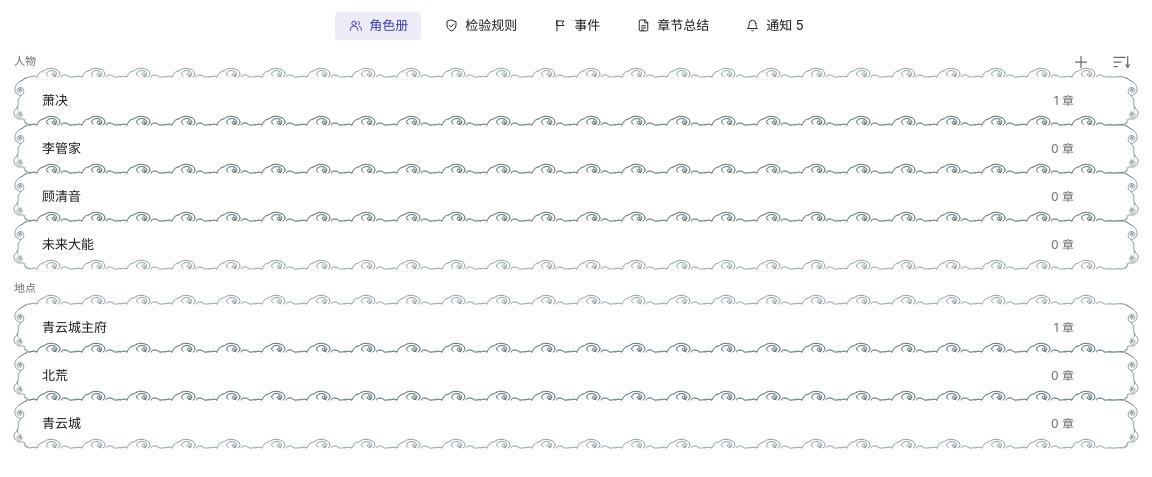
Test case: 线 2 再续：措辞的源只有一个 › 名单那一半：后端的句子原样上屏，一个字都不翻
The image size is (1152, 477).
What coordinates should you click on to do the following:
click the button "事件"
I would click on:
 (577, 26)
Its box is [540,12,613,40].
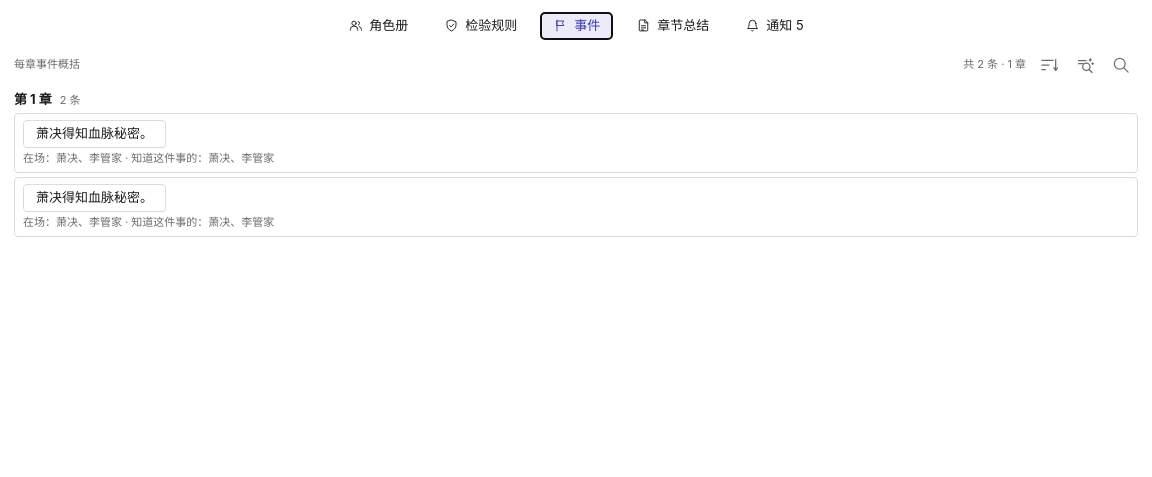
What coordinates should you click on to do the following:
click the 1st button "萧决得知血脉秘密。"
I would click on:
 (94, 134)
Its box is [23,120,166,148].
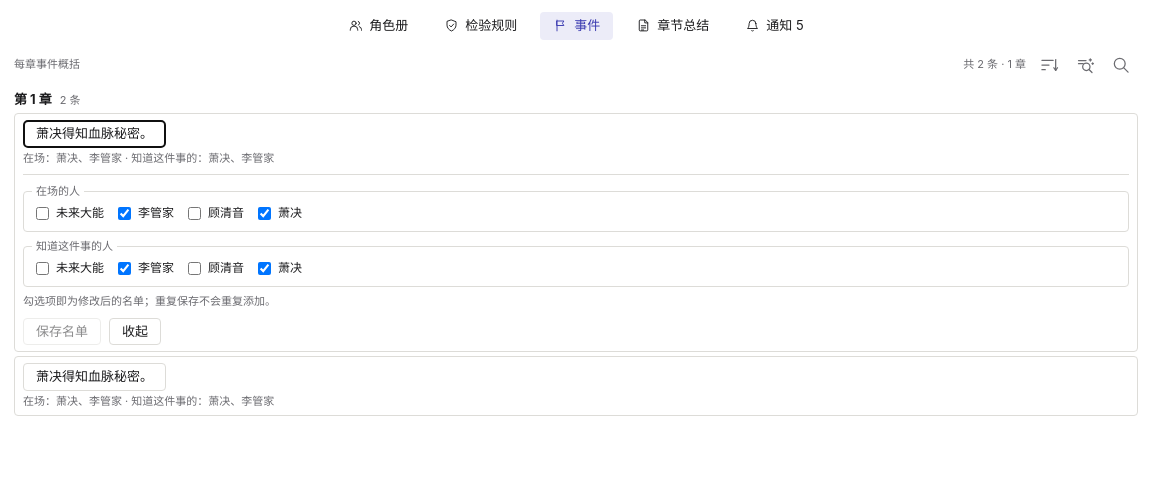
What coordinates should you click on to do the following:
click the checkbox labelled "李管家" below "知道这件事的人"
I would click on:
 (124, 268)
Its box is [118,262,131,274].
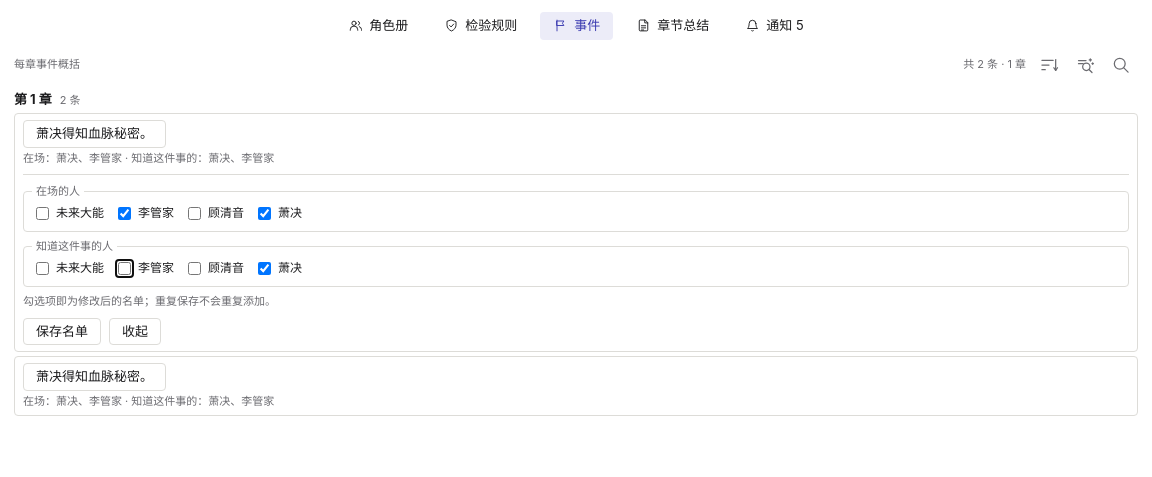
What coordinates should you click on to do the following:
click the button "保存名单"
I would click on:
 (62, 331)
Its box is [23,318,101,345].
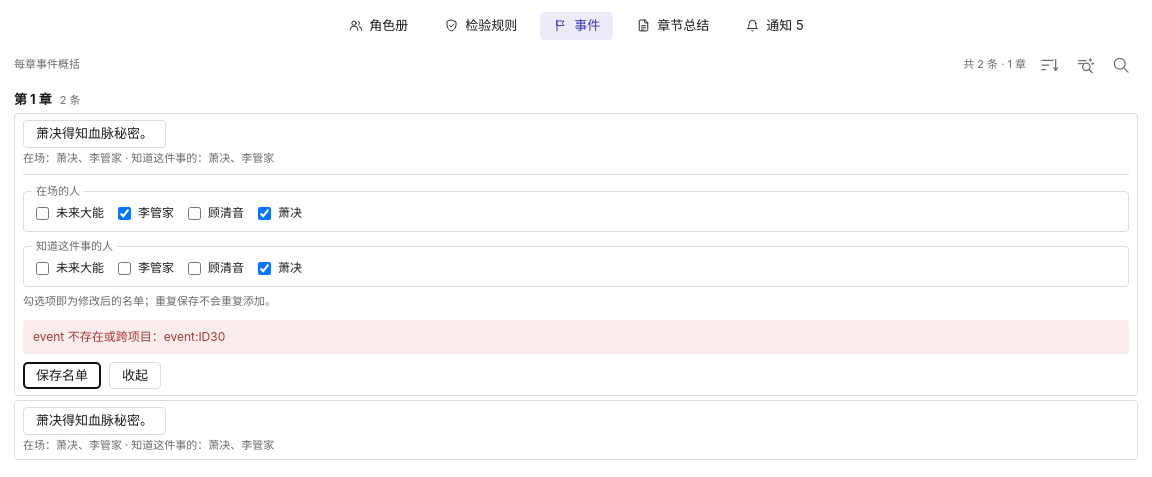
Check: the element showing "event 不存在或跨项目：event:ID30" is shown, box [23,320,1129,354]
